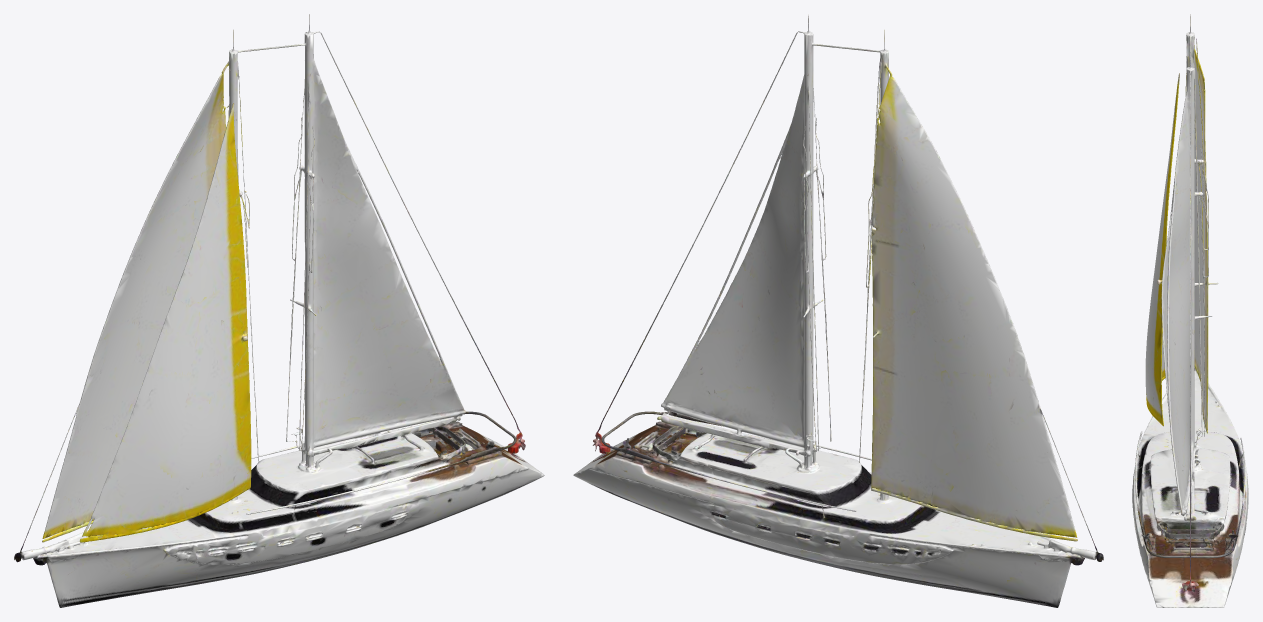
File: parus.glb
3 views of the same model, side by side, from view 1: azimuth 30°, elevation 25°; view 2: azimuth 150°, elevation 25°; view 3: azimuth 270°, elevation 25° (orthographic). The views are drawn at different scales.
Size of the model in its own units: 1.88 by 1.9 by 0.4029.
1 material, 1 textured.
